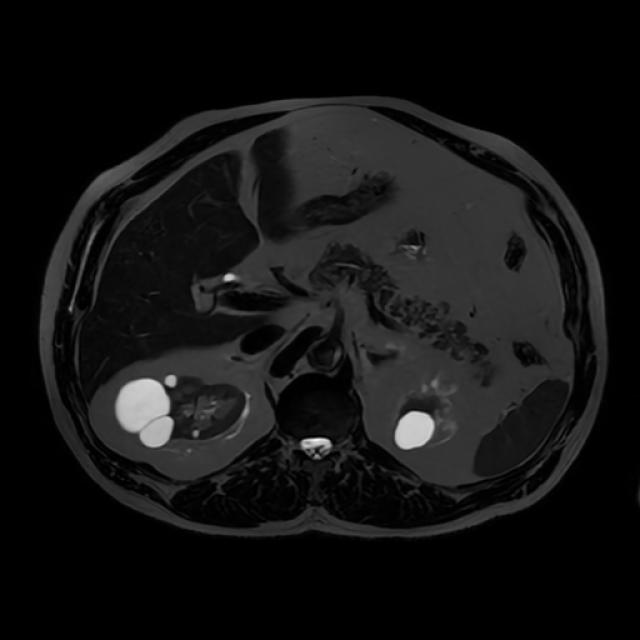sag: (113, 373, 246, 449)
sol: (391, 388, 445, 451)
